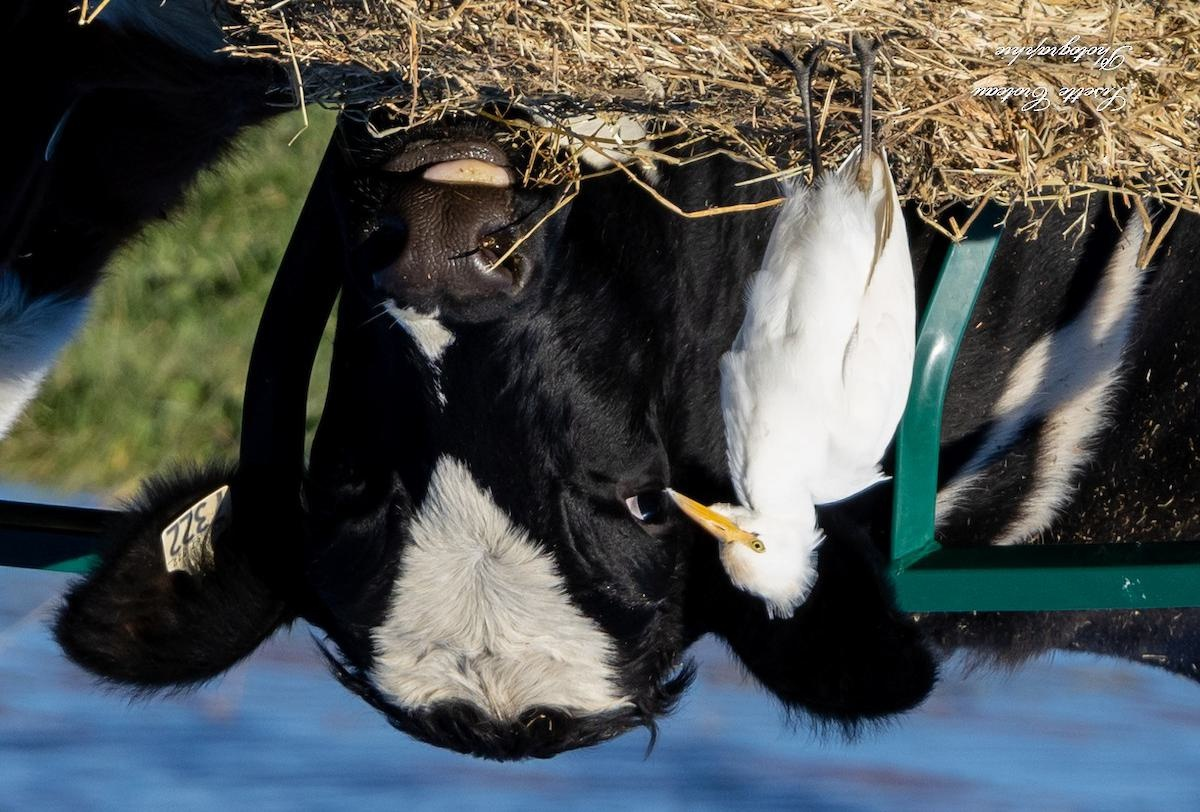egret: (655, 9, 941, 604)
